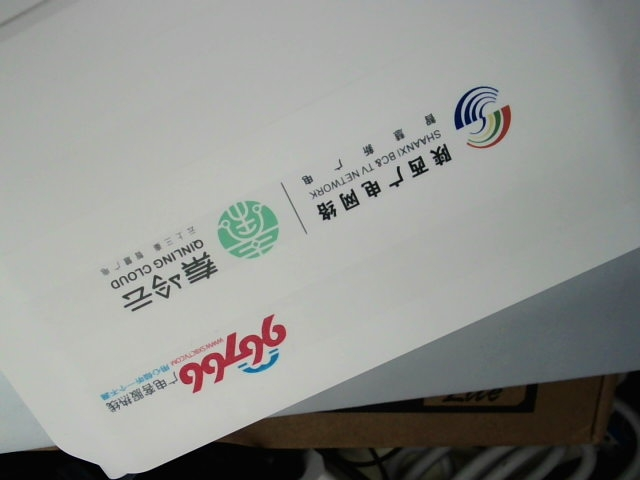AE_QinLing: (76, 196, 285, 314)
